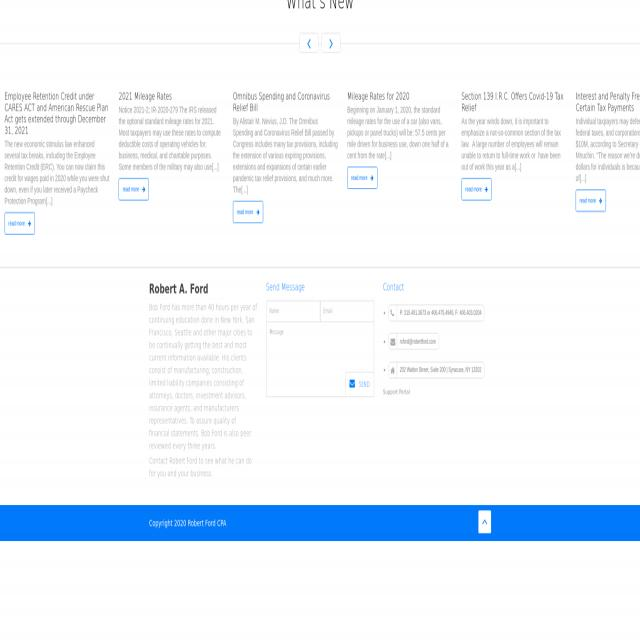button: (461, 178, 492, 200), (346, 372, 374, 396), (347, 167, 377, 189), (119, 178, 149, 200), (576, 190, 606, 212), (233, 201, 263, 223), (5, 212, 35, 234), (322, 32, 341, 54), (300, 34, 319, 54), (478, 511, 492, 534)
field: (266, 323, 374, 397), (266, 301, 320, 322), (320, 301, 374, 322)
